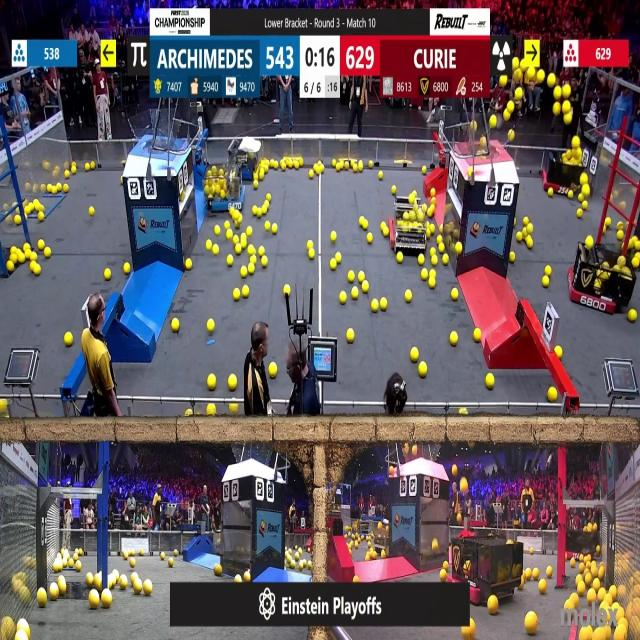ball_airborne: (536, 70, 545, 83), (563, 86, 571, 100), (460, 479, 468, 493), (563, 112, 572, 124), (555, 88, 563, 101), (546, 73, 554, 86), (515, 70, 524, 81), (563, 102, 571, 114), (554, 103, 562, 115), (516, 90, 524, 102), (527, 68, 535, 80), (571, 136, 579, 148), (583, 184, 591, 196), (490, 115, 498, 126), (587, 237, 594, 249), (507, 130, 514, 142), (499, 75, 506, 86), (450, 467, 456, 479), (514, 58, 520, 70), (533, 58, 539, 70), (582, 174, 589, 184), (507, 101, 513, 112), (412, 446, 418, 457), (520, 60, 526, 71), (481, 138, 487, 148), (504, 110, 509, 120), (387, 468, 392, 477), (471, 120, 476, 129)
ball_ground: (526, 614, 538, 636), (90, 592, 102, 609), (488, 596, 498, 614), (34, 588, 44, 606), (101, 592, 112, 608), (59, 580, 68, 596), (580, 628, 592, 640), (208, 375, 216, 391), (549, 387, 558, 401), (143, 582, 152, 596), (134, 582, 143, 596), (412, 348, 420, 363), (270, 362, 278, 377), (230, 376, 238, 391), (95, 574, 103, 589), (347, 328, 355, 342), (486, 375, 494, 389), (420, 362, 428, 376), (172, 318, 180, 332), (588, 590, 596, 604), (570, 594, 578, 608), (207, 406, 216, 418), (65, 334, 73, 347), (538, 581, 546, 594), (242, 285, 250, 297), (207, 320, 215, 332), (370, 301, 378, 313), (234, 288, 242, 300), (628, 310, 636, 322), (576, 584, 584, 596), (119, 576, 127, 588), (473, 328, 480, 341), (214, 564, 222, 575), (451, 334, 458, 346), (452, 288, 459, 300), (226, 254, 233, 266), (406, 290, 413, 302), (361, 218, 368, 230), (556, 346, 562, 359), (0, 398, 6, 411), (341, 291, 348, 302), (348, 272, 355, 283), (361, 282, 368, 293), (241, 268, 248, 279), (88, 573, 95, 584), (244, 571, 251, 582), (231, 404, 238, 415), (532, 568, 539, 579), (591, 578, 598, 589), (123, 264, 129, 276), (249, 255, 257, 264), (456, 242, 462, 254), (381, 297, 387, 309), (108, 578, 114, 590), (628, 239, 636, 248), (541, 277, 548, 287), (526, 238, 533, 248), (357, 272, 364, 282), (34, 266, 41, 276), (262, 259, 269, 269), (212, 244, 219, 254), (517, 232, 524, 242), (428, 278, 435, 288), (441, 570, 448, 580), (421, 270, 428, 280), (507, 252, 514, 262), (17, 253, 24, 263), (37, 212, 44, 222), (564, 600, 571, 610), (317, 165, 324, 175), (7, 263, 13, 274), (396, 252, 402, 263), (352, 288, 358, 299), (309, 249, 315, 260), (248, 266, 254, 277), (38, 240, 44, 251), (428, 270, 436, 278), (8, 253, 16, 261), (236, 574, 243, 583), (248, 246, 255, 255), (234, 236, 241, 245), (105, 270, 111, 280), (419, 254, 425, 264), (236, 244, 242, 254), (185, 261, 191, 271), (444, 254, 450, 264), (544, 267, 550, 277), (330, 232, 336, 242), (44, 248, 50, 258), (546, 567, 552, 577), (284, 285, 290, 295), (272, 223, 278, 233), (308, 240, 314, 250), (618, 232, 624, 242), (366, 235, 372, 245), (330, 262, 336, 272), (431, 255, 437, 265), (75, 562, 81, 572), (527, 223, 533, 233), (241, 235, 247, 245), (429, 223, 435, 233), (357, 163, 363, 173), (632, 257, 638, 267), (432, 538, 438, 548), (31, 252, 38, 260), (459, 410, 466, 418), (258, 247, 264, 256), (90, 207, 96, 216), (337, 253, 343, 262), (226, 231, 232, 240), (576, 209, 582, 218), (252, 207, 258, 216), (383, 229, 389, 238), (523, 216, 529, 225), (440, 244, 446, 253), (131, 559, 137, 568), (206, 241, 212, 250), (309, 171, 315, 180), (253, 180, 259, 189), (25, 243, 31, 252), (280, 163, 286, 172), (298, 561, 304, 570), (579, 562, 584, 572), (635, 240, 640, 250), (185, 411, 192, 418), (238, 215, 245, 222), (214, 226, 220, 234), (583, 202, 589, 210), (430, 247, 436, 255), (14, 216, 20, 224), (604, 217, 610, 225), (331, 161, 337, 169), (258, 172, 264, 180), (46, 184, 52, 192), (391, 184, 396, 193), (266, 221, 271, 230), (247, 226, 252, 235), (444, 561, 449, 570), (428, 208, 433, 217), (257, 207, 262, 216), (596, 544, 601, 553), (293, 159, 298, 168), (298, 161, 303, 170), (381, 552, 386, 561), (353, 575, 359, 582), (263, 208, 269, 215), (436, 236, 442, 243), (577, 193, 583, 200), (547, 188, 552, 196), (169, 559, 174, 567), (568, 190, 573, 198), (224, 220, 229, 228), (267, 192, 272, 200), (84, 163, 89, 171), (64, 184, 69, 192), (379, 172, 384, 180), (65, 171, 70, 179), (570, 559, 575, 567), (58, 183, 63, 191), (265, 201, 270, 209), (353, 165, 358, 173), (440, 224, 445, 232), (290, 561, 295, 569), (363, 556, 369, 562), (426, 231, 430, 240), (422, 166, 427, 173), (430, 188, 435, 195), (140, 550, 145, 557), (92, 162, 96, 170), (368, 162, 372, 170), (338, 165, 342, 173), (175, 550, 180, 556), (123, 554, 128, 560), (72, 168, 76, 175), (119, 177, 123, 184), (162, 554, 166, 560), (603, 226, 606, 232), (530, 547, 533, 553)
goal: (128, 115, 187, 152), (461, 123, 516, 159)
robot_blue: (204, 165, 242, 213), (228, 138, 261, 180), (350, 519, 372, 540)
robot_red: (449, 532, 524, 608), (569, 246, 634, 314), (392, 193, 431, 254), (543, 147, 583, 195), (564, 510, 600, 560)
